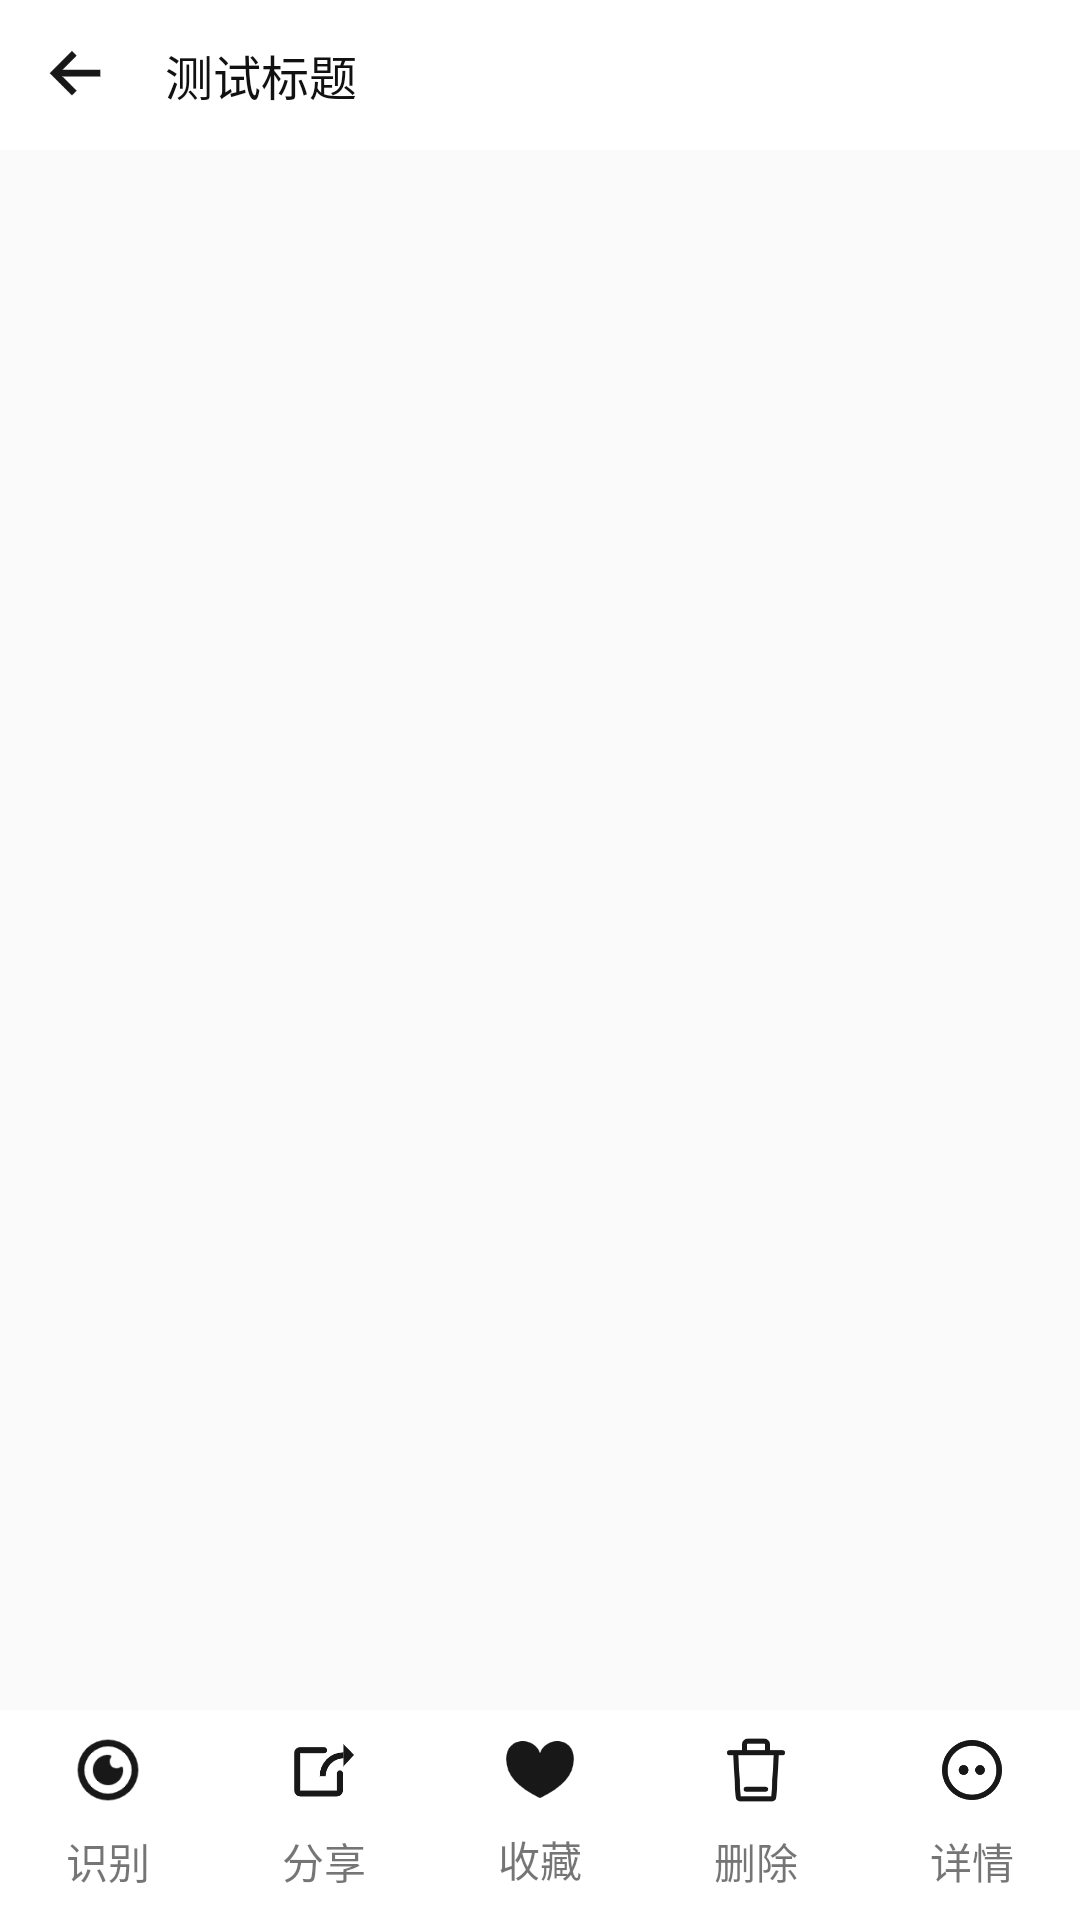

Icons on this 1080×1920 Android screen, each with its box as (left=x1, top=y1, right=x2, bottom=y2):
back: (left=50, top=51, right=101, bottom=96)
